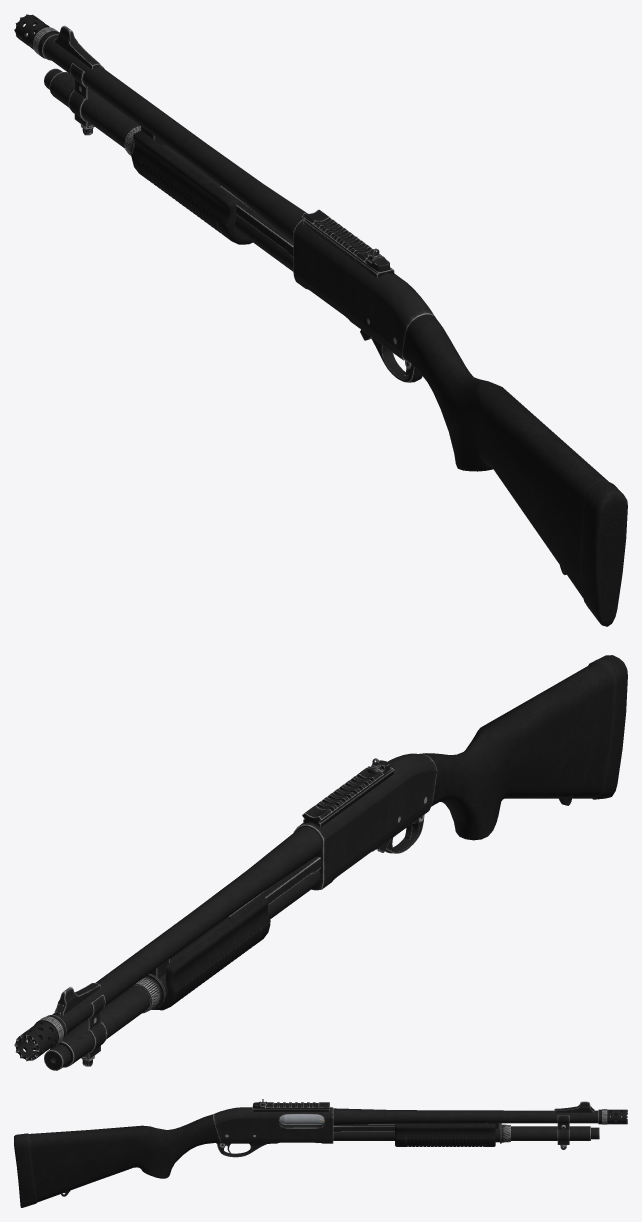
3 renders of one model, top to bottom at view 1: azimuth 30°, elevation 25°; view 2: azimuth 150°, elevation 25°; view 3: azimuth 270°, elevation 25°, orthographic. The views are drawn at different scales.
Visible parts, largest first — view 1: M870-Final; view 2: M870-Final; view 3: M870-Final.
Part boxes in pixels (<box>): M870-Final: <box>14,14,627,626</box>; M870-Final: <box>14,655,627,1070</box>; M870-Final: <box>14,1099,627,1207</box>.
Bounding box in the file's own units: 0.0444 × 0.1944 × 0.9943.
1 material, 1 textured.
